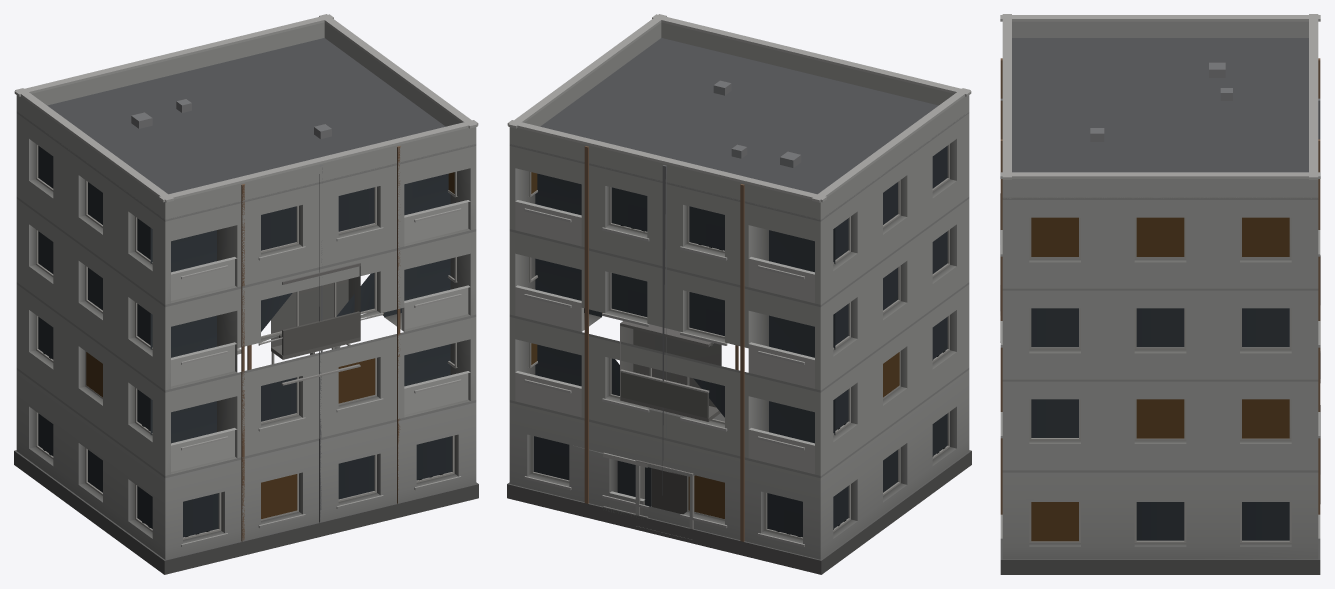
Rendered from building_tall.glb.
The picture shows the model from 3 angles, left to right: view 1: azimuth 30°, elevation 25°; view 2: azimuth 150°, elevation 25°; view 3: azimuth 270°, elevation 25°; orthographic projection. The views are drawn at different scales.
Visible parts, largest first — view 1: building_tall.001; view 2: building_tall.001; view 3: building_tall.001.
Boxes of the visible parts, x1,y1,x2,y2 form: building_tall.001: (14, 14, 478, 574); building_tall.001: (507, 14, 971, 574); building_tall.001: (1000, 14, 1320, 574).
Bounding box in the file's own units: 12.14 × 13.79 × 10.06.
